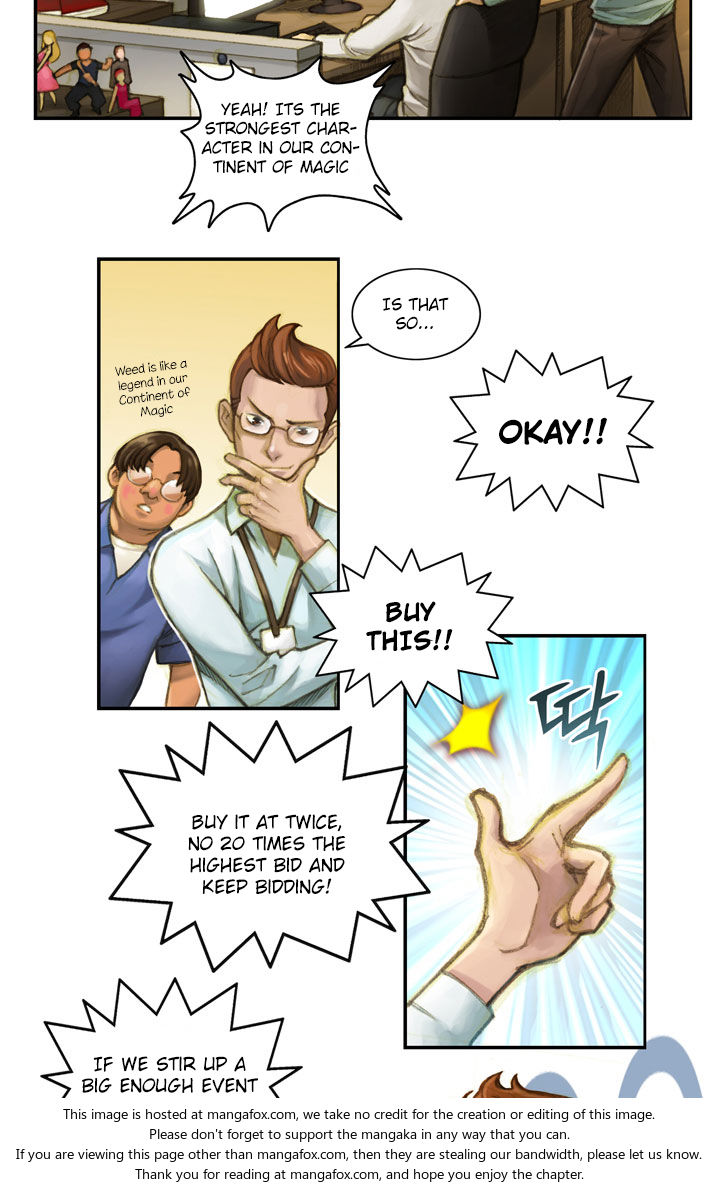bubble: (109, 721, 431, 970), (173, 51, 401, 233), (450, 352, 653, 511), (310, 547, 513, 706), (40, 979, 301, 1099), (346, 268, 481, 360)
